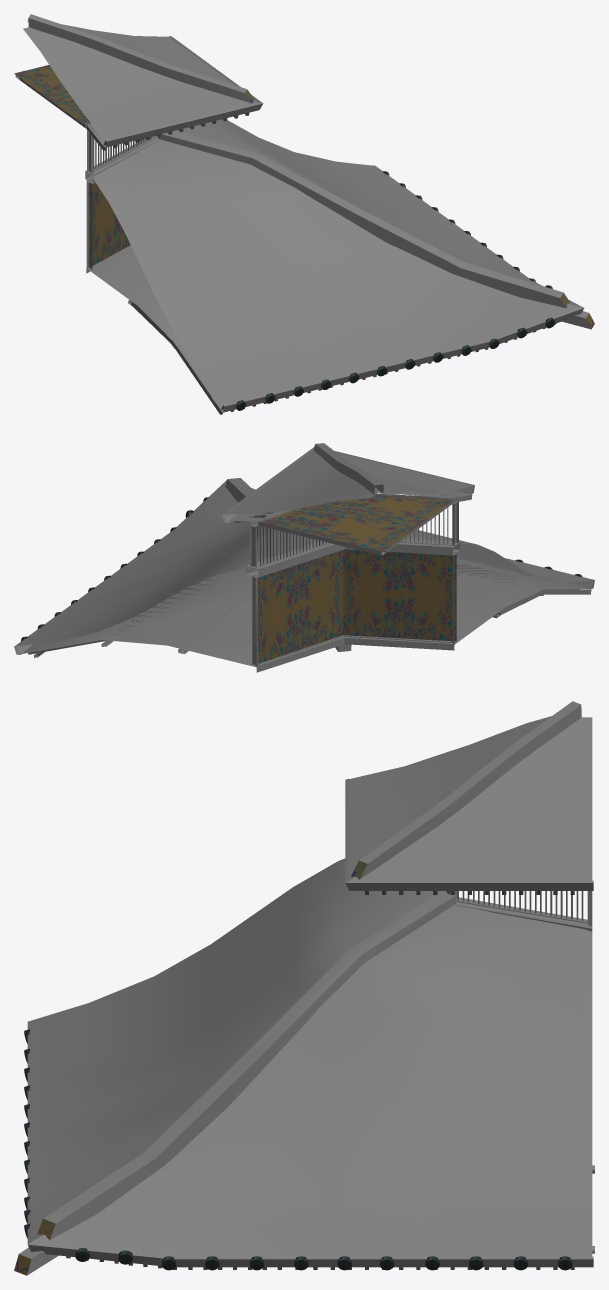
Rendered from Attic_Corners.fbx.
The picture shows the model from 3 angles, top to bottom: view 1: azimuth 30°, elevation 25°; view 2: azimuth 150°, elevation 25°; view 3: azimuth 270°, elevation 25°; orthographic projection. The views are drawn at different scales.
Parts seen in each view (by area): view 1: Attic_Corners; view 2: Attic_Corners; view 3: Attic_Corners.
Part boxes in pixels (x1,y1,x2,y2): Attic_Corners: (14, 14, 594, 414); Attic_Corners: (14, 443, 594, 672); Attic_Corners: (14, 701, 594, 1275).
Size of the model in its own units: 1040 by 672 by 1041.
